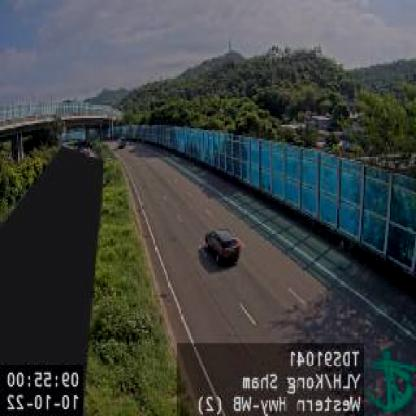Car: (202, 226, 242, 266)
